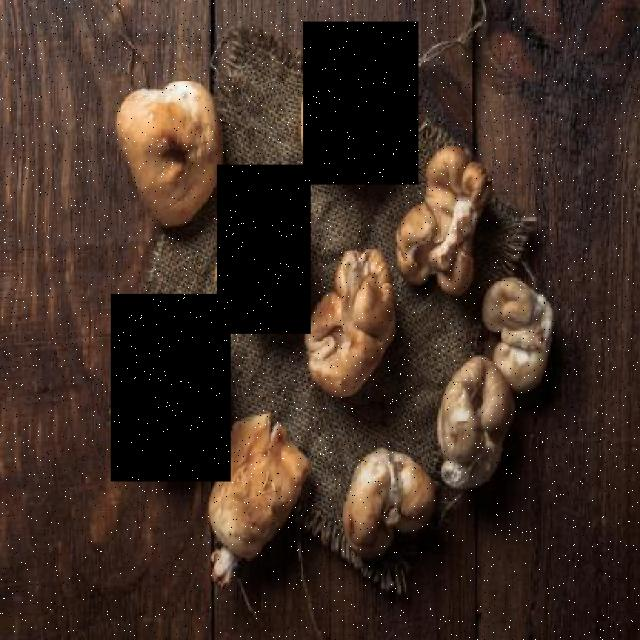Mushroom: (112, 295, 230, 482), (303, 22, 419, 186), (217, 164, 311, 333)
